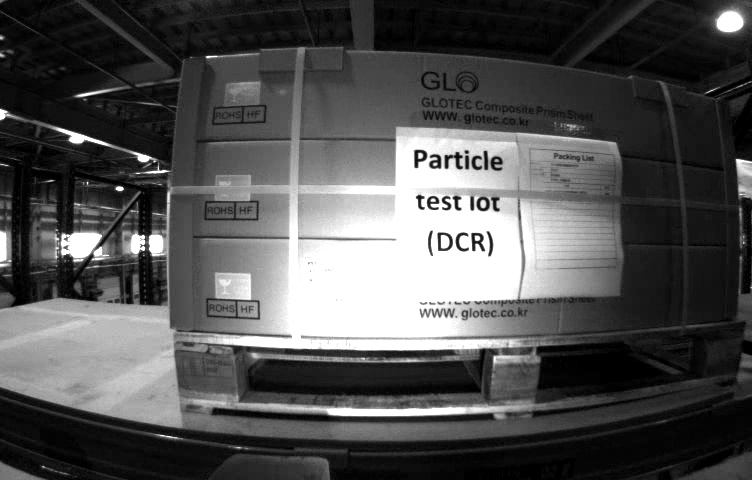True Barcode: (303, 254, 361, 297)
